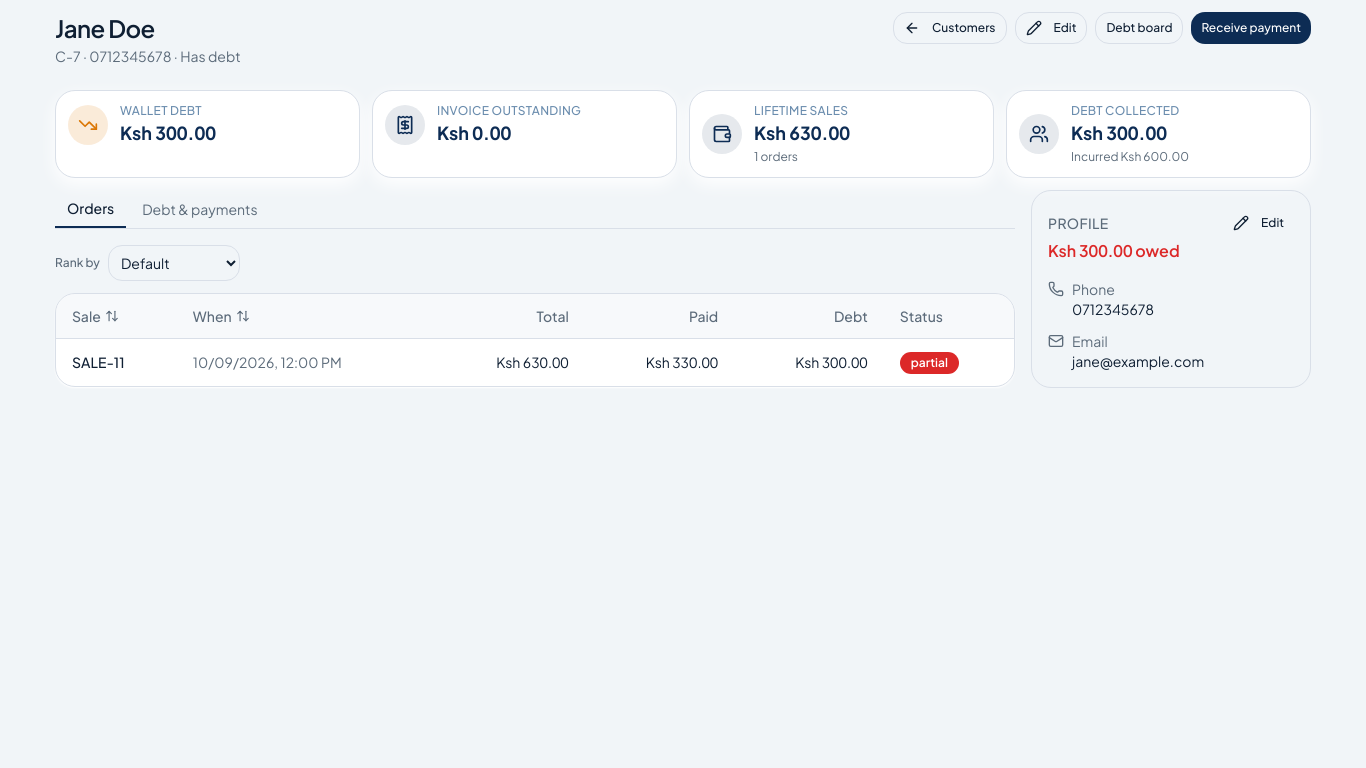
Test case: CustomerDetailPage › opens the edit form from the customer profile
The image size is (1366, 768).
Expected: the heading "Jane Doe" is shown, top-left (55, 13), bottom-right (155, 43)
Step 1. Click the button "Edit" next to "Customers" → [1051, 28], box top-left (1014, 12), bottom-right (1087, 44)
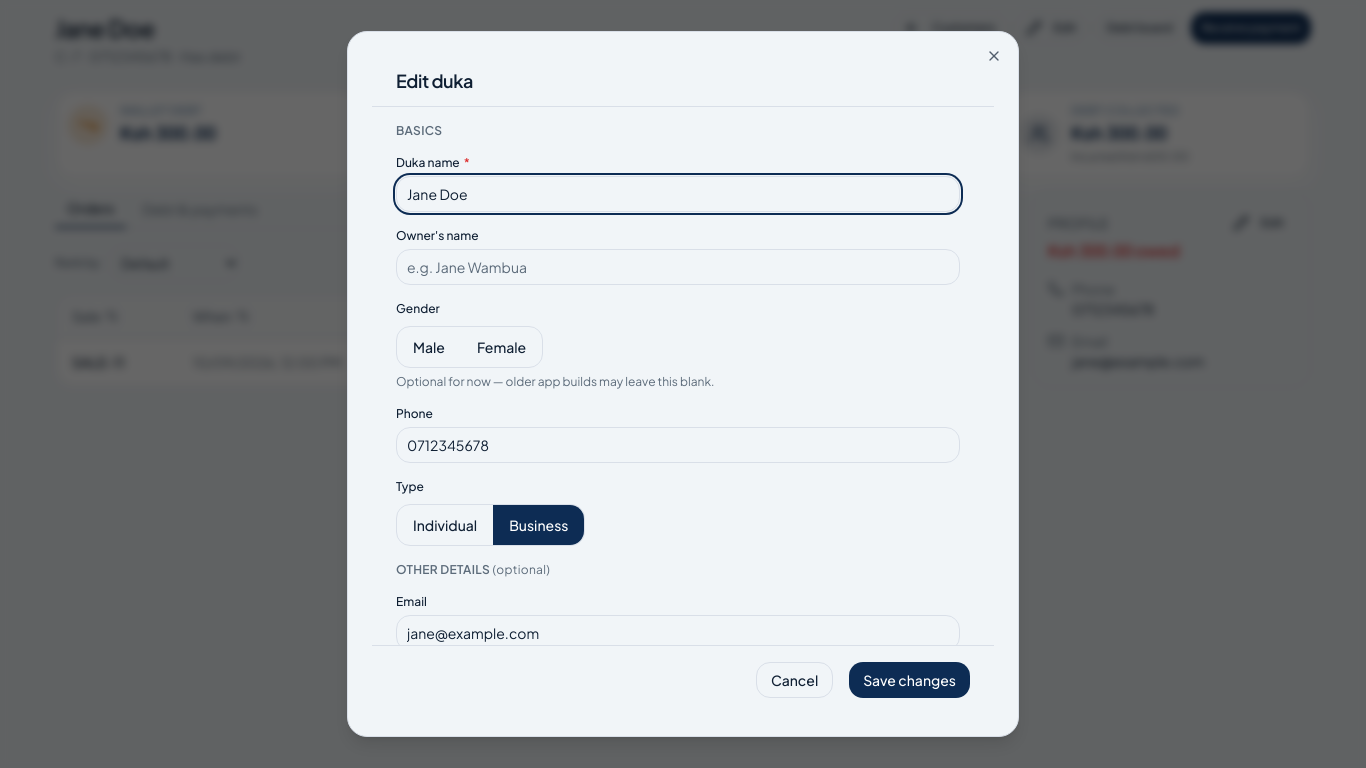
Expected: the heading "Edit duka" is shown, top-left (396, 69), bottom-right (473, 92)
Expected: the field labelled "Duka name *" holds "Jane Doe", top-left (396, 176), bottom-right (960, 212)
